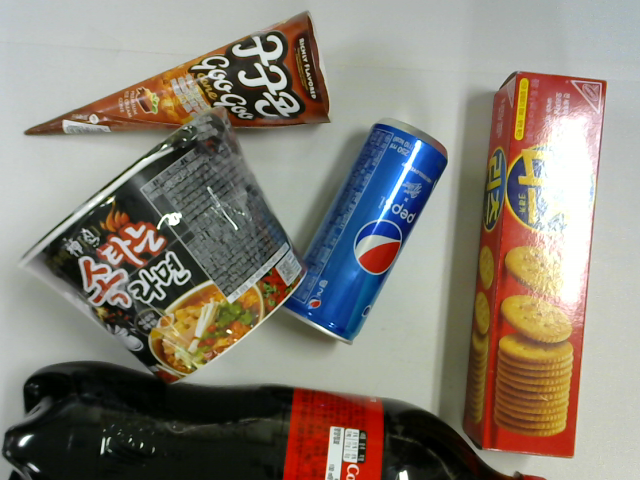Coca_Cola_1.5L: (4, 360, 550, 480)
GooGoo_Cone_CVS: (23, 10, 332, 134)
HeJangsock: (19, 109, 306, 382)
Pepsi_Cola_Can_250ml: (271, 118, 445, 342)
Ritz_Cracker: (462, 73, 593, 460)
